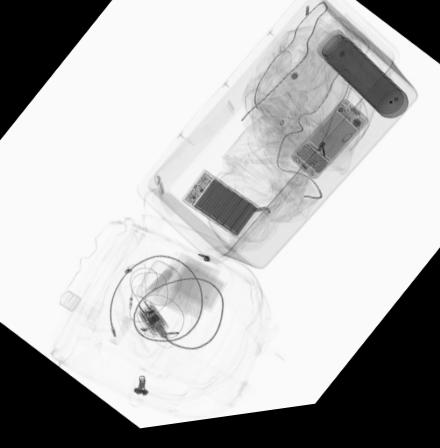Powerbank: (178, 173, 261, 246)
